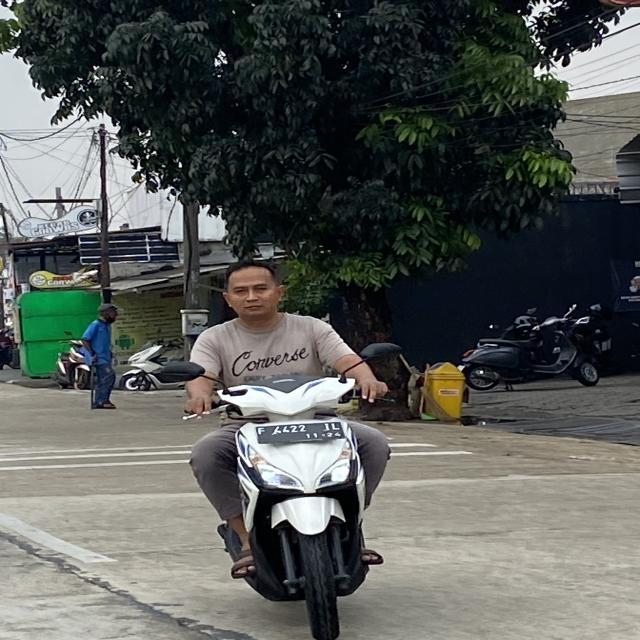Number Plate: (256, 420, 344, 443)
Rearview Mirror: (157, 362, 204, 382), (359, 343, 401, 359)
